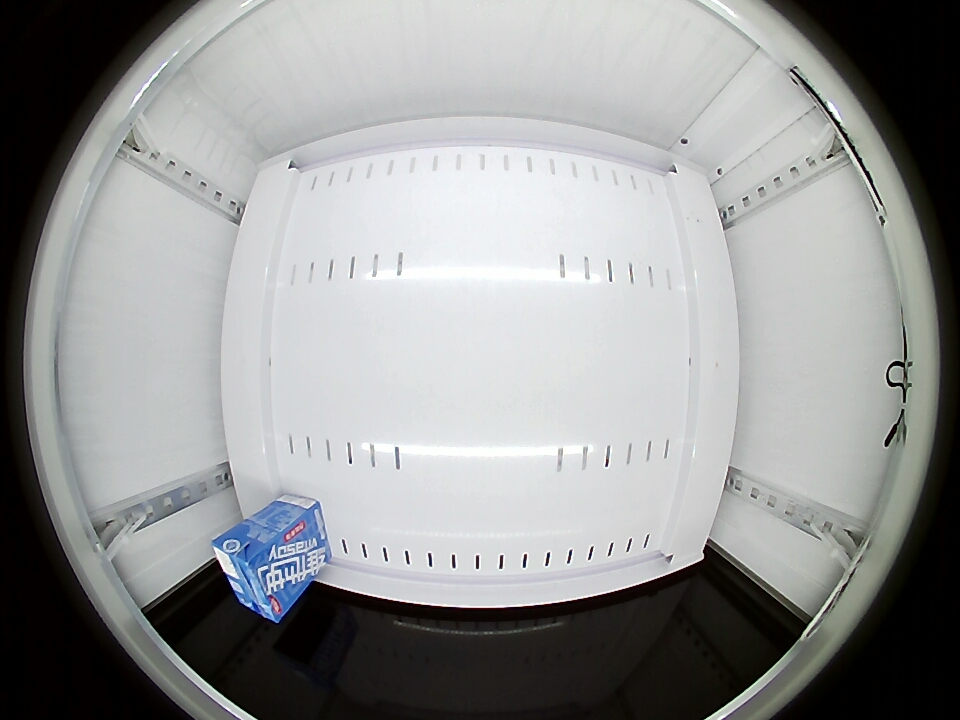weitanai: (211, 525, 296, 623)
